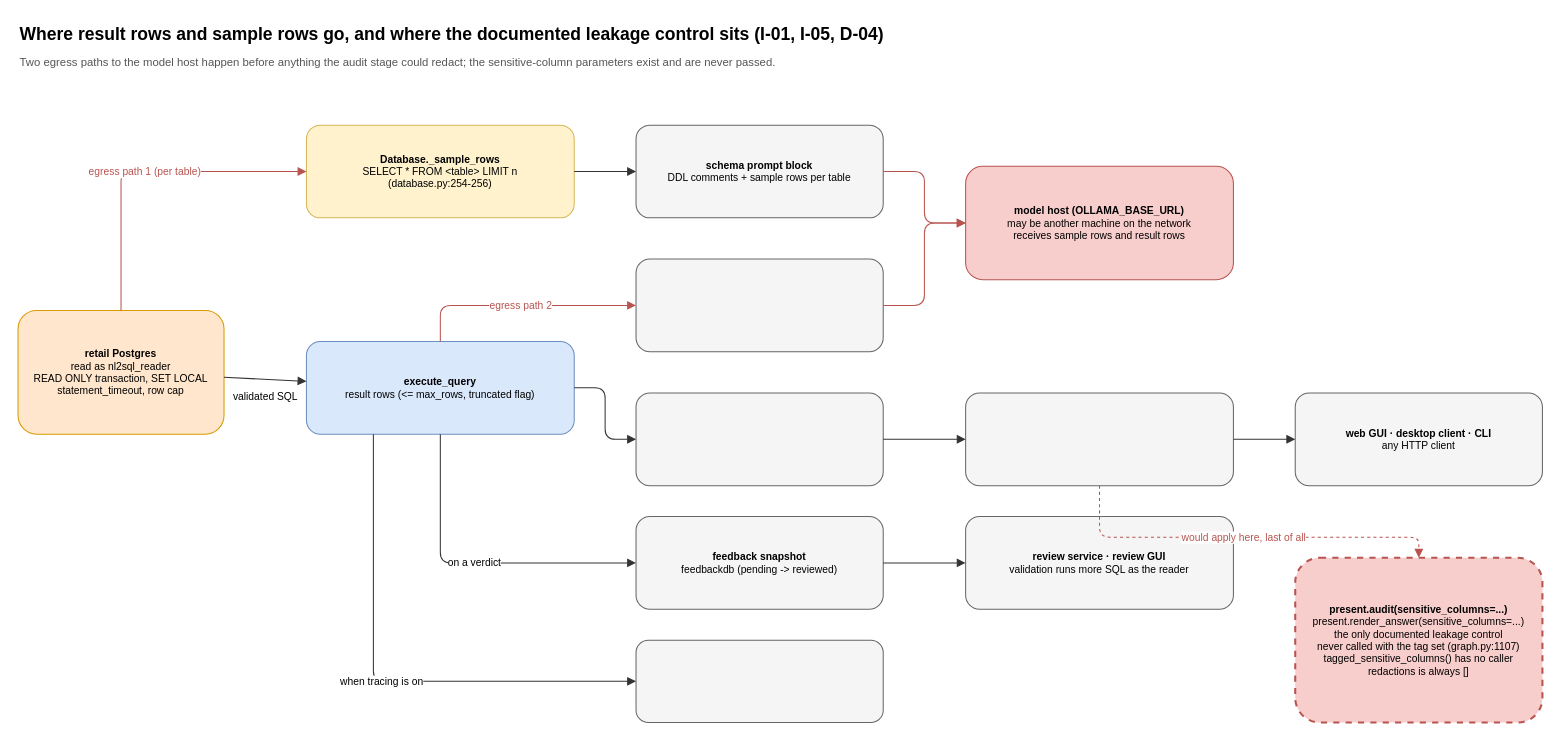
The diagram is 1561 pixels wide and 741 high, and some of its shapes have lost their labels. Here are the shapes that lost their labels. From the top down, the box of each, then its label:
(635, 258, 883, 352): narrator prompt question + result rows + chart spec
(635, 392, 883, 486): API job store (process memory) kept 1 h after finishing
(965, 392, 1233, 486): REST answer result, sql, plan_cost, trace, retrieval_errors
(635, 639, 883, 723): MLflow trace mlflowdb; UI on :5001 (loopback)
